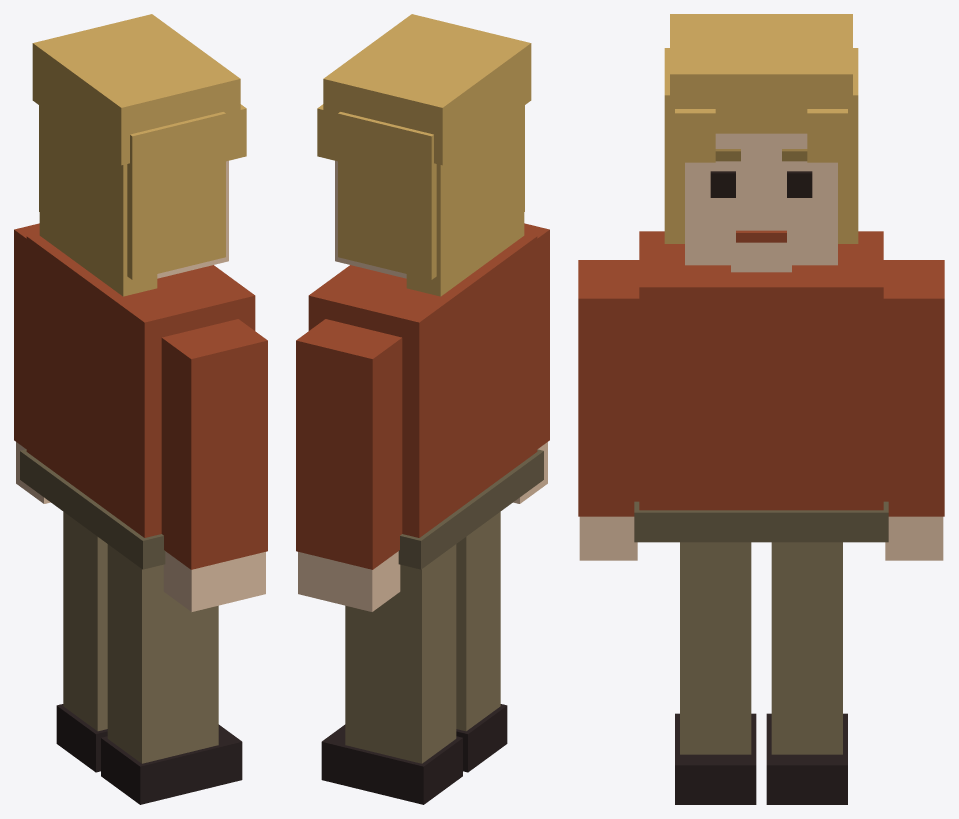
Rendered from kowalskis_dad.glb.
3 views of the same model, side by side, from view 1: azimuth 30°, elevation 25°; view 2: azimuth 150°, elevation 25°; view 3: azimuth 270°, elevation 25° (orthographic). The views are drawn at different scales.
Parts seen in each view (by area): view 1: Box9, Box7, Box18, Box5, Box21, Box23, Box1, Box6, Box10, Box8, Box3, Box2 (+2 smaller); view 2: Box9, Box3, Box18, Box1, Box19, Box23, Box5, Box2, Box10, Box4, Box7, Box6 (+2 smaller); view 3: Box9, Box18, Box12, Box3, Box7, Box1, Box5, Box10, Box2, Box6, Box4, Box8 (+7 smaller).
Part boxes in pixels (x1,y1,x2,y2): Box9: (26, 233, 255, 537); Box7: (161, 319, 267, 569); Box18: (32, 14, 240, 165); Box5: (107, 544, 218, 763); Box21: (127, 112, 225, 279); Box23: (39, 106, 157, 296); Box1: (63, 512, 107, 731); Box6: (101, 724, 242, 804); Box10: (20, 449, 165, 569); Box8: (163, 551, 265, 611); Box3: (14, 223, 39, 448); Box2: (56, 704, 107, 772); Box9: (308, 233, 537, 537); Box3: (296, 319, 402, 569); Box18: (323, 14, 531, 165); Box1: (345, 544, 456, 763); Box19: (338, 112, 436, 279); Box23: (406, 106, 524, 296); Box5: (456, 512, 500, 731); Box2: (321, 724, 462, 804); Box10: (398, 449, 543, 569); Box4: (298, 551, 400, 611); Box7: (524, 223, 549, 448); Box6: (456, 704, 507, 772); Box9: (639, 231, 883, 510); Box18: (670, 14, 852, 133); Box12: (685, 133, 837, 265); Box3: (883, 260, 944, 516); Box7: (578, 260, 639, 516); Box1: (771, 542, 842, 754); Box5: (680, 542, 751, 754); Box10: (634, 501, 888, 542); Box2: (766, 713, 847, 804); Box6: (675, 713, 756, 804); Box4: (885, 516, 943, 560); Box8: (579, 516, 637, 560).
Bounding box in the file's own units: 0.3402 × 1.79 × 0.8165.
